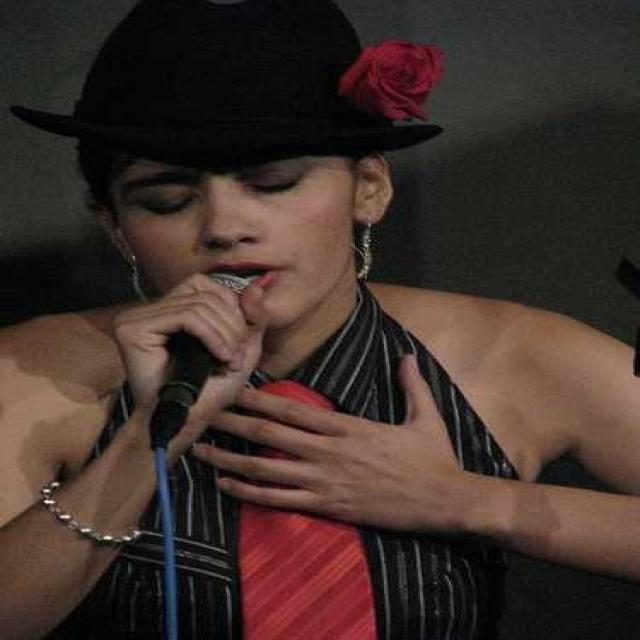microphone: (132, 262, 267, 452)
